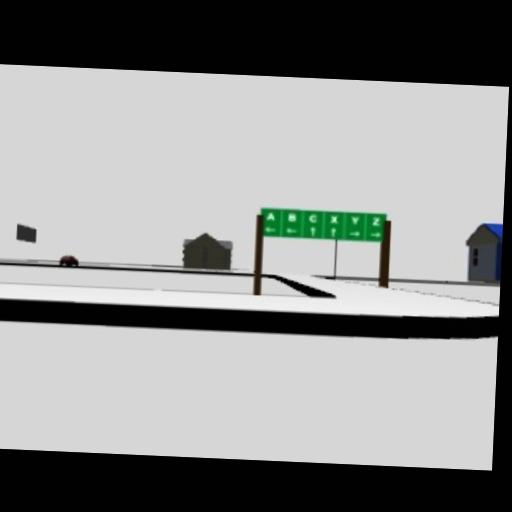A: (266, 211, 276, 222)
B: (287, 213, 297, 222)
C: (308, 213, 318, 224)
Left: (264, 225, 275, 234), (285, 227, 298, 234)
Right: (349, 228, 360, 238), (370, 229, 381, 239)
Straight: (309, 226, 318, 237), (330, 227, 337, 238)
X: (329, 214, 339, 224)
Y: (350, 215, 360, 225)
Z: (371, 215, 381, 227)
